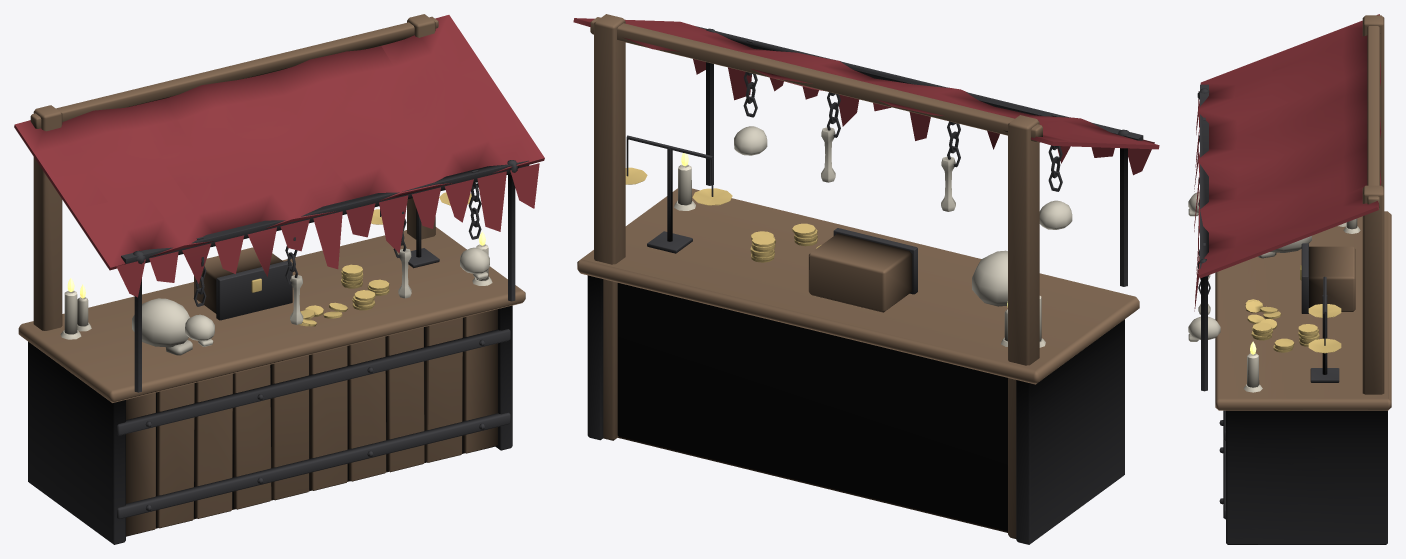
File: place_shop.glb
3 renders of one model, left to right at view 1: azimuth 30°, elevation 25°; view 2: azimuth 150°, elevation 25°; view 3: azimuth 270°, elevation 25°, orthographic. The views are drawn at different scales.
Parts seen in each view (by area): view 1: place_shop; view 2: place_shop; view 3: place_shop.
Part boxes in pixels (box(x1,y1,x2,y2)): place_shop: box(14, 14, 544, 544); place_shop: box(573, 14, 1159, 544); place_shop: box(1188, 14, 1391, 544).
Bounding box in the file's own units: 2.6 × 2.15 × 1.13.
